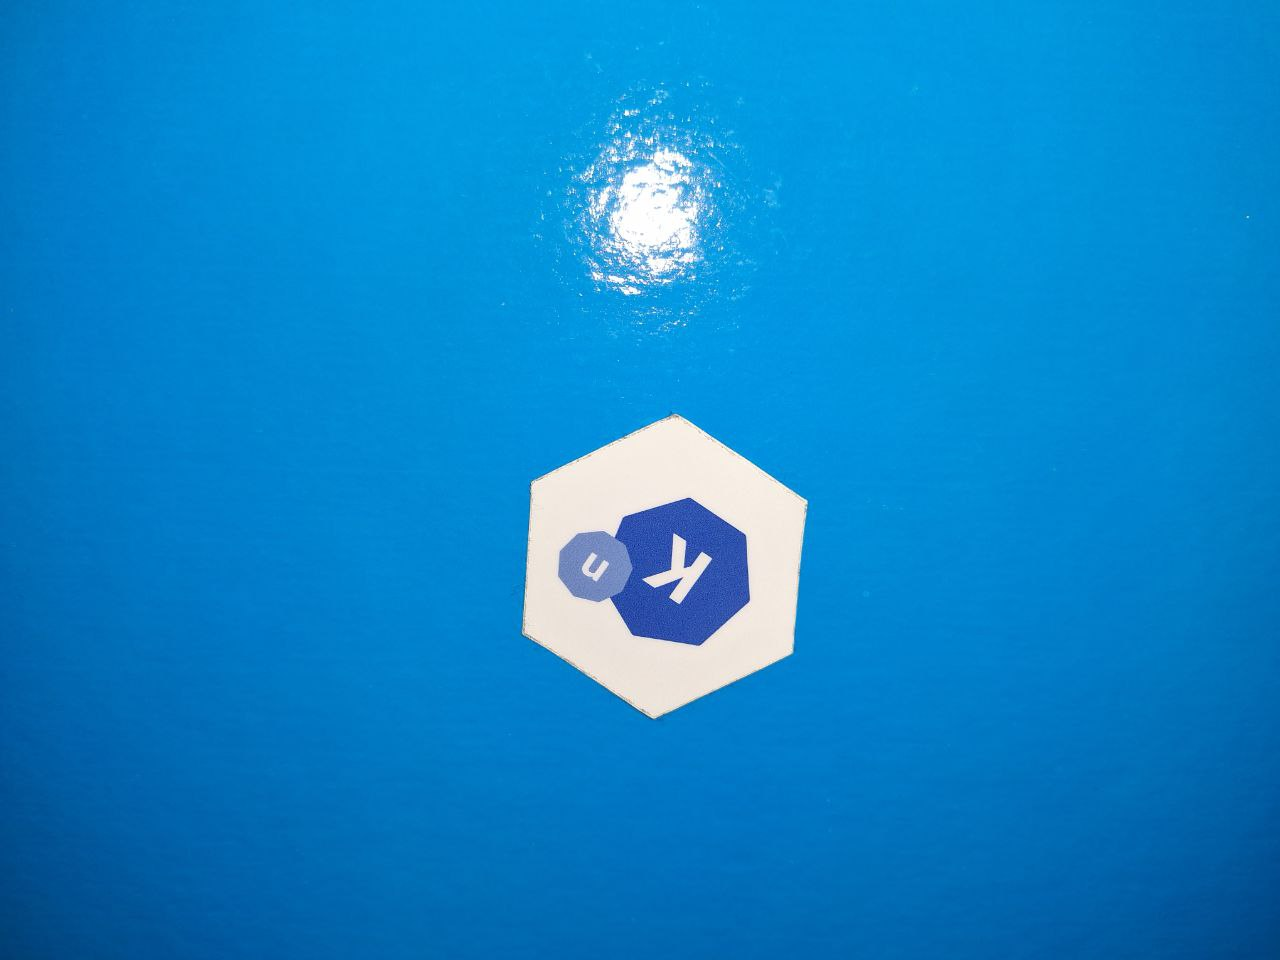knative: (557, 496, 752, 651)
